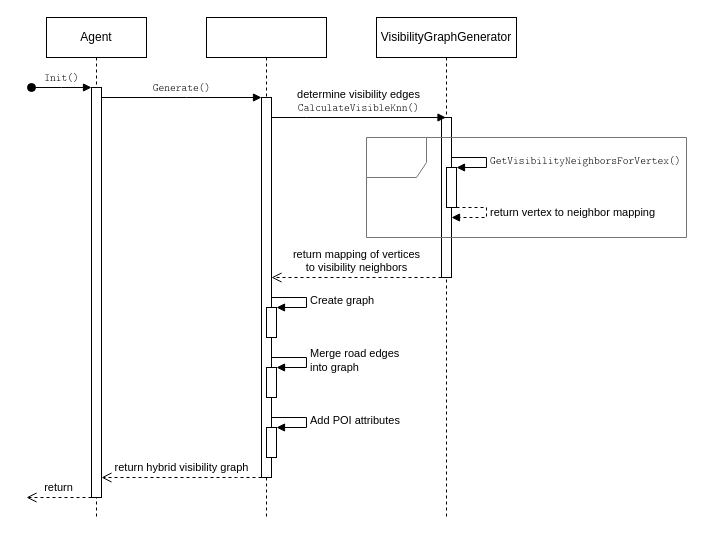
The diagram is 704 pixels wide and 535 high, and some of its shapes have lost their labels. The centre of each missing label's shape, as x and y in pixels:
"for each vertex" belongs at (x=526, y=187).
"H.V.GraphGenerator" belongs at (x=266, y=267).
